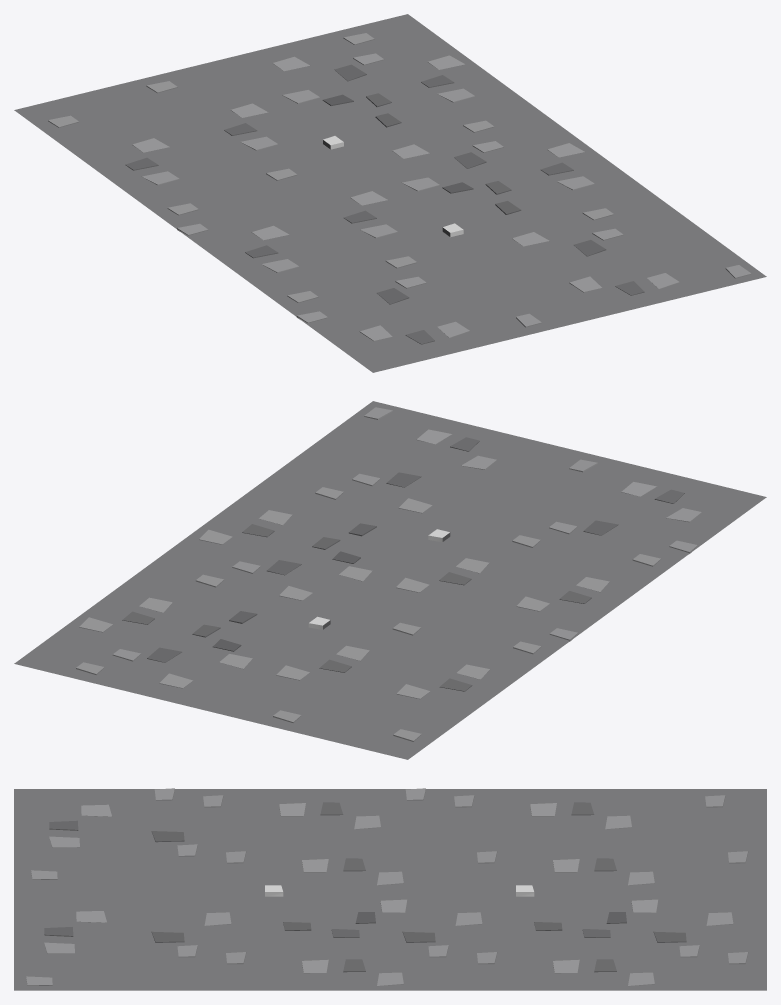
The model's file is necroPOLY_Ground.fbx.
3 views of the same model, one above another, from view 1: azimuth 30°, elevation 25°; view 2: azimuth 150°, elevation 25°; view 3: azimuth 270°, elevation 25° (orthographic). The views are drawn at different scales.
Visible parts, largest first — view 1: necroPOLY_Ground_LOD0; view 2: necroPOLY_Ground_LOD0; view 3: necroPOLY_Ground_LOD0.
Boxes of the visible parts, x1,y1,x2,y2 form: necroPOLY_Ground_LOD0: (14, 14, 766, 372); necroPOLY_Ground_LOD0: (14, 401, 766, 759); necroPOLY_Ground_LOD0: (14, 788, 766, 990).
Size of what is drawn, in the model's own units: 19 by 0.2753 by 30.
